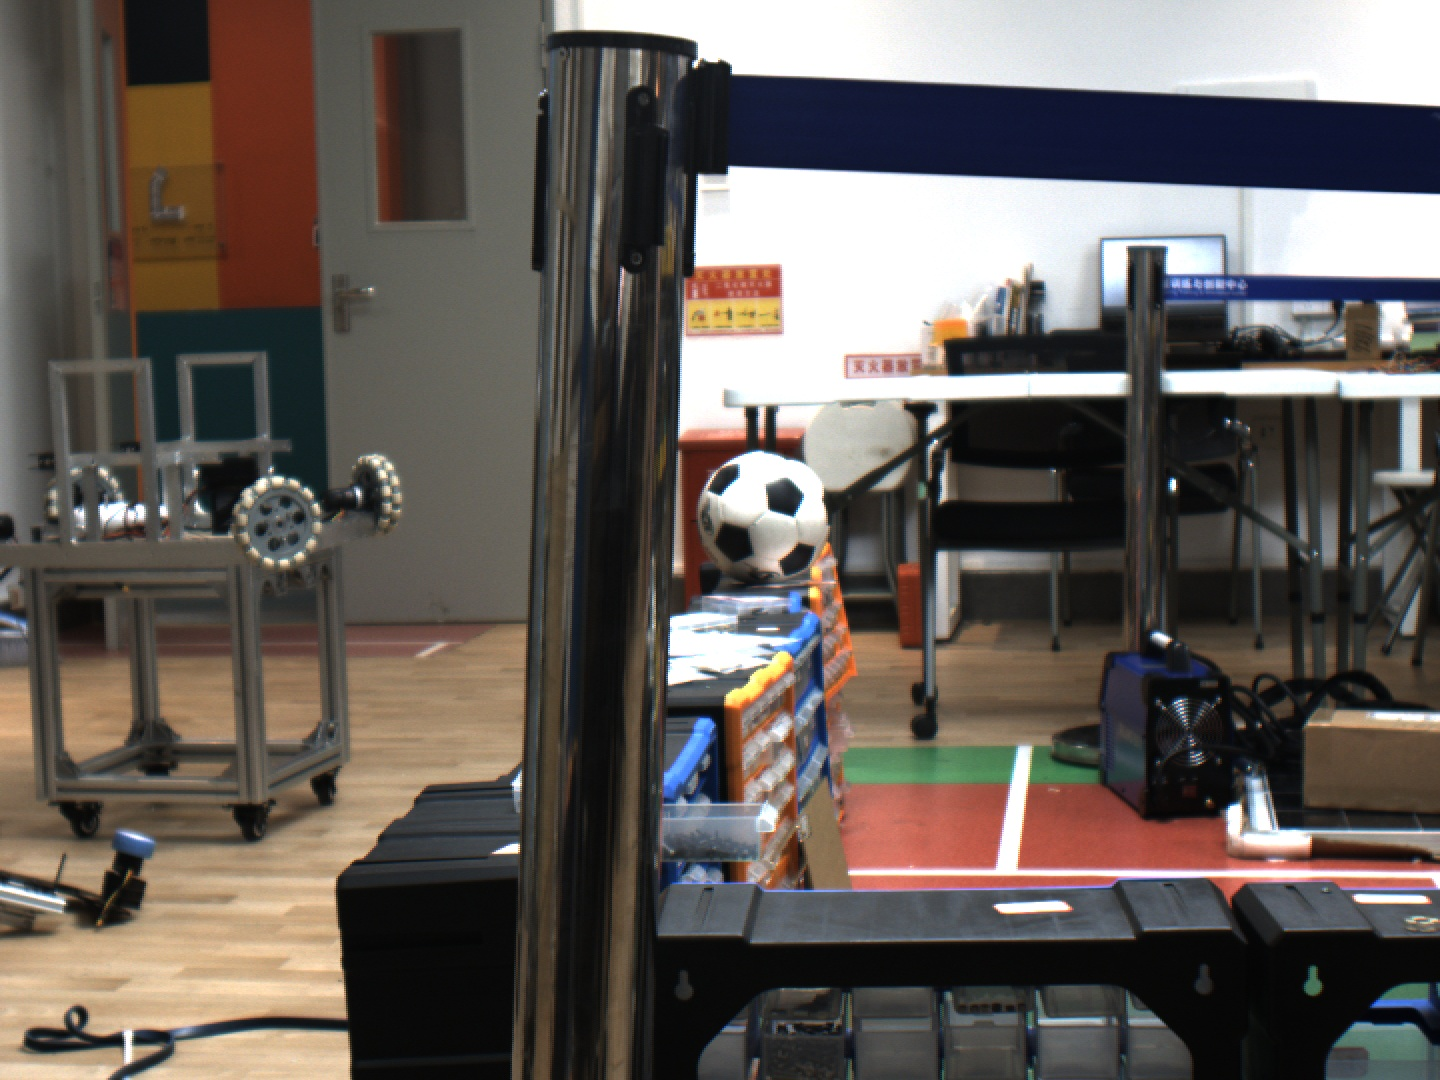ball: (683, 431, 859, 604)
